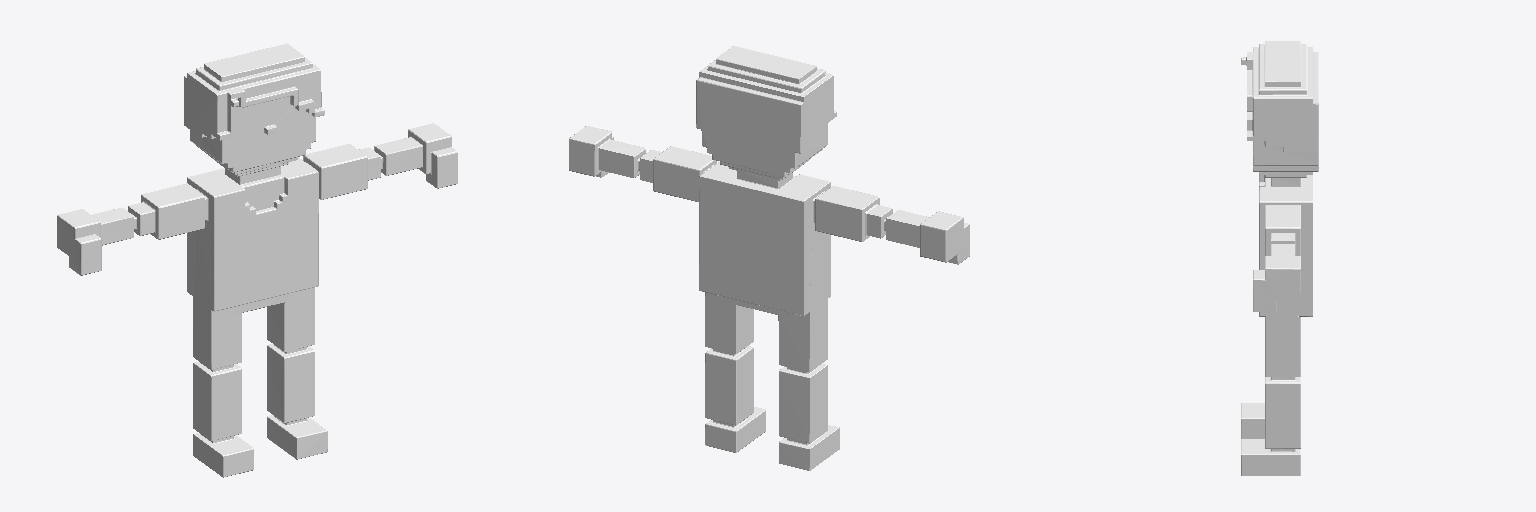
File: STUDENT.obj
3 renders of one model, left to right at view 1: azimuth 30°, elevation 25°; view 2: azimuth 150°, elevation 25°; view 3: azimuth 270°, elevation 25°, orthographic.
Parts seen in each view (by area): view 1: SCHOOL_STUDENT.001; view 2: SCHOOL_STUDENT.001; view 3: SCHOOL_STUDENT.001.
Boxes of the visible parts, x1=… form: SCHOOL_STUDENT.001: x1=57, y1=43, x2=457, y2=477; SCHOOL_STUDENT.001: x1=569, y1=46, x2=969, y2=470; SCHOOL_STUDENT.001: x1=1241, y1=41, x2=1318, y2=475.
Size of the model in its own units: 72 by 71 by 13.